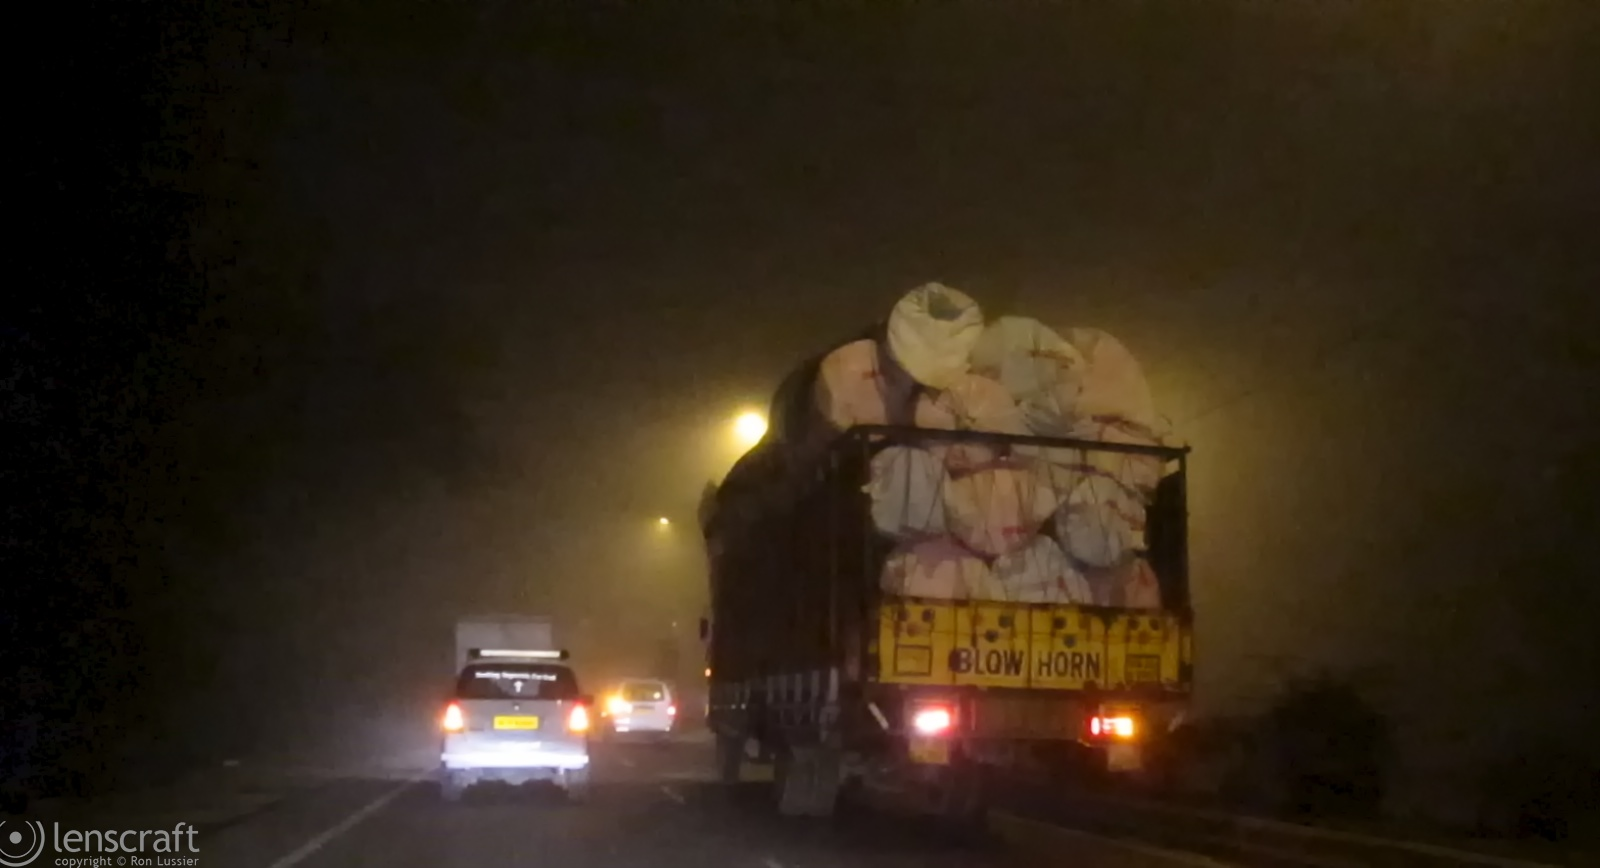car: (441, 651, 588, 803), (610, 678, 675, 746)
truck: (766, 366, 1195, 825)
